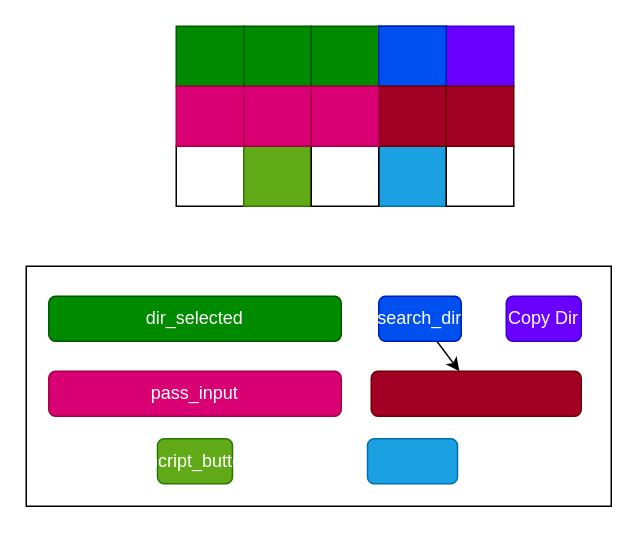
This 638x533 diagram has some shape labels left out. Here are the shapes that lost their labels. From the top down, the centre of each, then its label:
At [475,393]: "name_input".
At [412,460]: "desencript_button".
